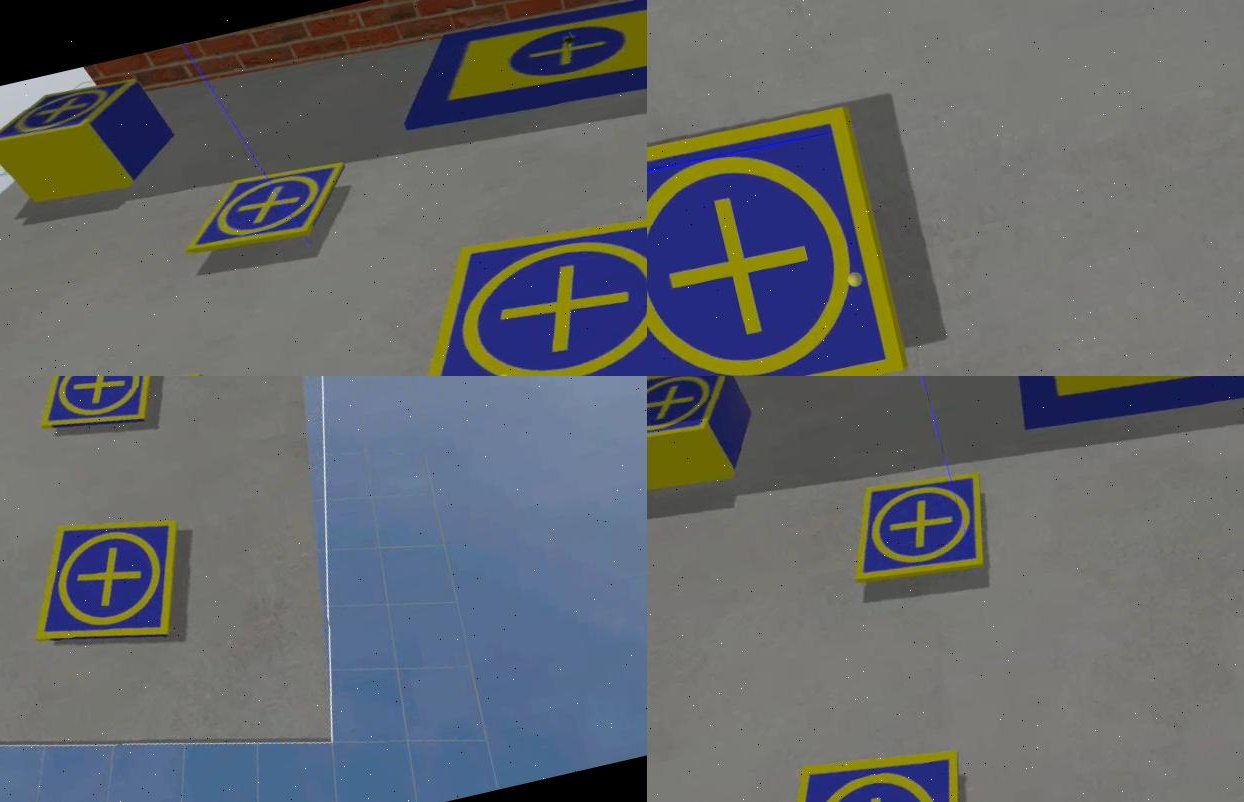large_base: (377, 1, 645, 145), (994, 376, 1242, 455)
small_base: (645, 100, 908, 376), (381, 199, 645, 376), (15, 500, 200, 666), (834, 472, 992, 602), (175, 155, 354, 263), (747, 734, 984, 802), (0, 69, 147, 157), (25, 376, 171, 447), (645, 376, 740, 459)
